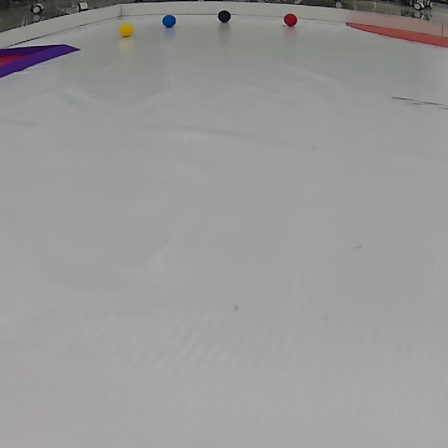black: (215, 7, 233, 25)
blue: (161, 14, 177, 28)
red: (277, 12, 303, 26)
red_aim: (2, 42, 81, 80)
red_base: (342, 17, 448, 48)
yellow: (117, 23, 139, 39)
